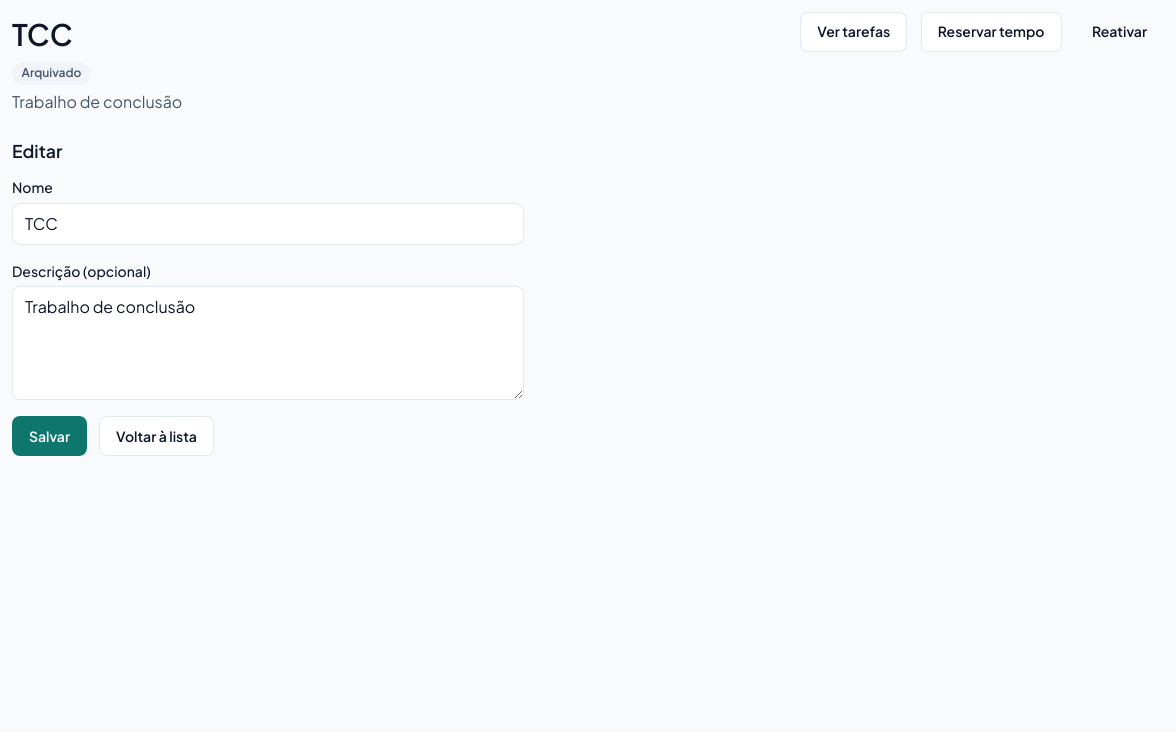
it: ProjetoFormPage (F4 hub) › T7c: hub arquivado oferece Reativar
Expected: the heading "TCC" is shown, [12,15,73,53]
Expected: the button "arquivar" is not shown
Step 1. Click the button "Reativar" → [1120, 32], box [1075,12,1164,52]
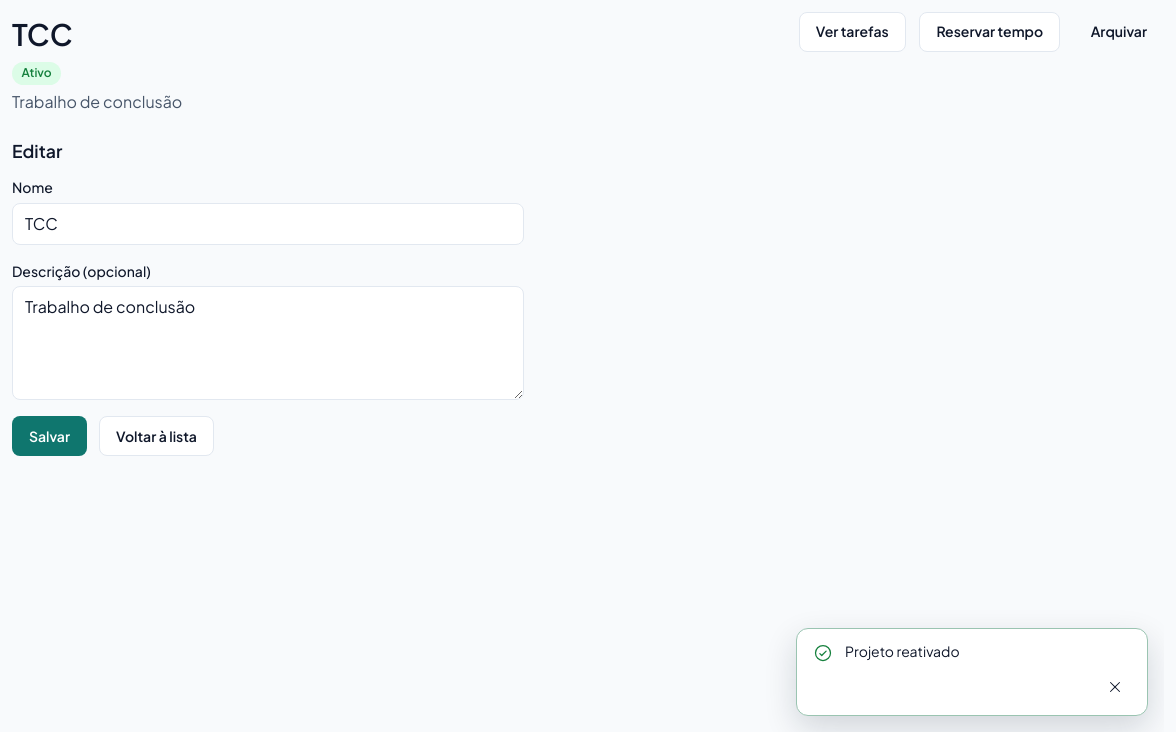
Expected: the button "Arquivar" is shown, [1074,12,1164,52]
